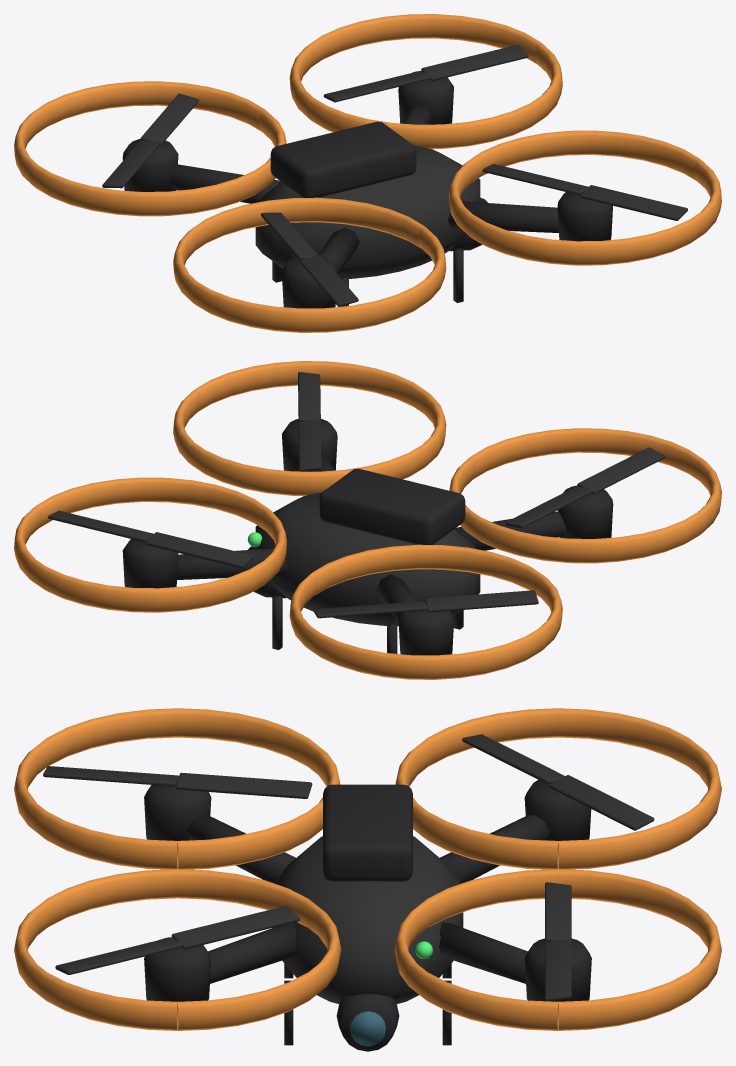
The model's file is SM_Drone.glb.
3 renders of one model, top to bottom at view 1: azimuth 30°, elevation 25°; view 2: azimuth 150°, elevation 25°; view 3: azimuth 270°, elevation 25°, orthographic. The views are drawn at different scales.
Visible parts, largest first — view 1: SM_Drone; view 2: SM_Drone; view 3: SM_Drone.
Boxes of the visible parts, x1,y1,x2,y2 form: SM_Drone: (14, 14, 721, 332); SM_Drone: (14, 361, 721, 679); SM_Drone: (14, 708, 721, 1051).
Bounding box in the file's own units: 0.3157 × 0.089 × 0.3157.
